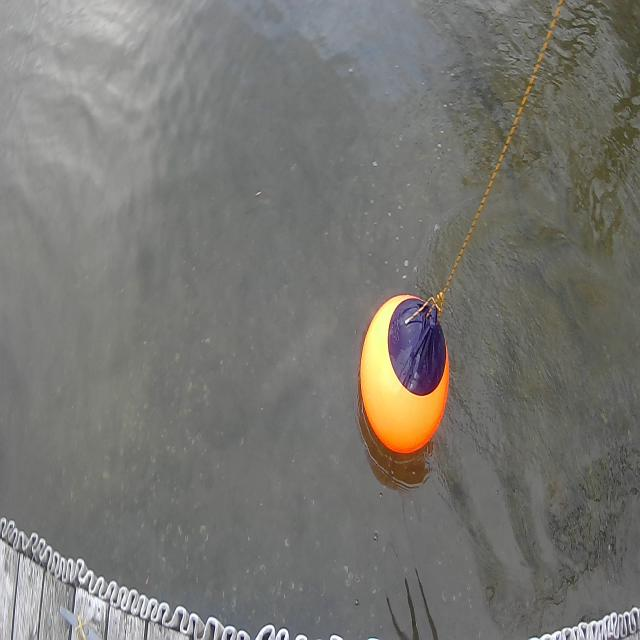Buoy: (354, 276, 454, 464)
